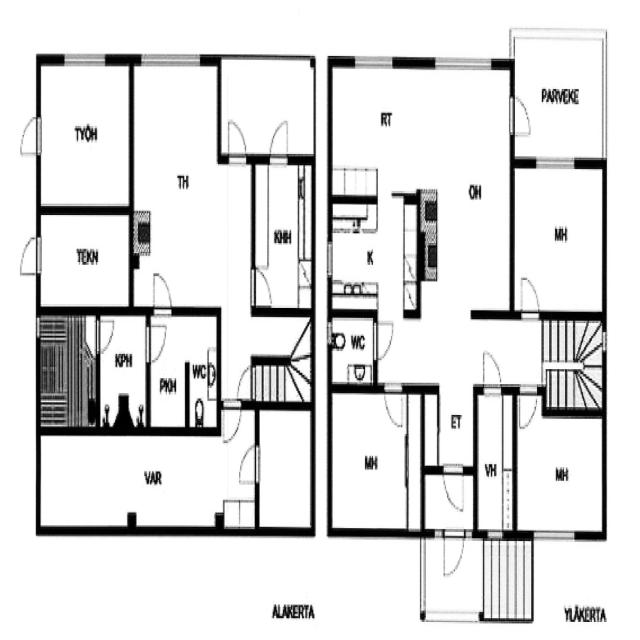door: (506, 88, 535, 142), (17, 109, 44, 164), (517, 270, 543, 323), (515, 379, 540, 434), (224, 113, 249, 167), (236, 438, 262, 488), (441, 526, 465, 580), (480, 346, 504, 400), (17, 231, 43, 280), (150, 268, 174, 320), (267, 115, 292, 164), (248, 263, 274, 310), (442, 462, 466, 512), (143, 318, 168, 366), (383, 379, 405, 432), (371, 317, 395, 363), (221, 396, 242, 444), (93, 316, 115, 356), (235, 363, 257, 402)
window: (137, 43, 205, 74), (430, 47, 496, 78), (59, 45, 110, 72), (530, 521, 580, 548), (531, 149, 580, 176), (349, 48, 397, 73), (484, 524, 507, 549), (325, 234, 335, 284), (601, 323, 611, 362), (324, 318, 334, 347), (34, 312, 43, 342)
zone: (130, 58, 227, 306), (325, 64, 509, 192), (52, 424, 246, 531), (36, 56, 132, 210), (511, 160, 605, 317), (329, 387, 417, 534), (513, 406, 606, 534), (419, 192, 510, 315), (327, 199, 417, 315), (252, 158, 317, 316), (37, 208, 133, 312), (148, 308, 220, 431), (256, 405, 314, 532), (37, 311, 98, 429), (98, 311, 149, 426), (476, 387, 515, 535), (329, 313, 376, 385)
